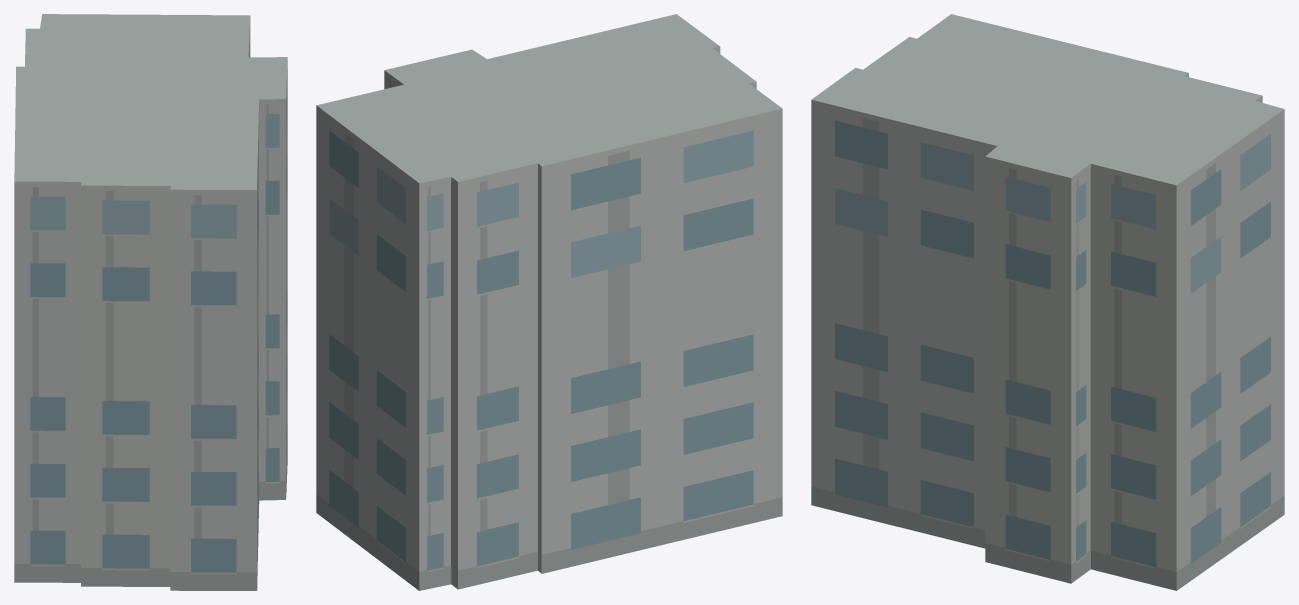
File: survey-upis-32988857.glb
3 views of the same model, side by side, from view 1: azimuth 30°, elevation 25°; view 2: azimuth 150°, elevation 25°; view 3: azimuth 270°, elevation 25° (orthographic).
Parts seen in each view (by area): view 1: survey-upis-32988857.tmp; view 2: survey-upis-32988857.tmp; view 3: survey-upis-32988857.tmp.
Part boxes in pixels (box(x1,y1,x2,y2)): survey-upis-32988857.tmp: box(14, 14, 287, 590); survey-upis-32988857.tmp: box(316, 14, 782, 590); survey-upis-32988857.tmp: box(811, 14, 1284, 590).
Bounding box in the file's own units: 16.6 × 18.3 × 19.37.
